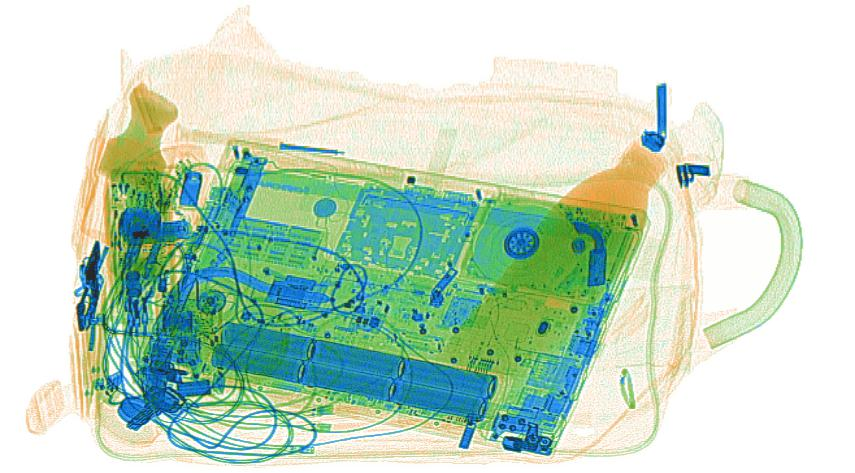battery: (127, 218, 190, 244)
seal: (95, 85, 178, 191)
